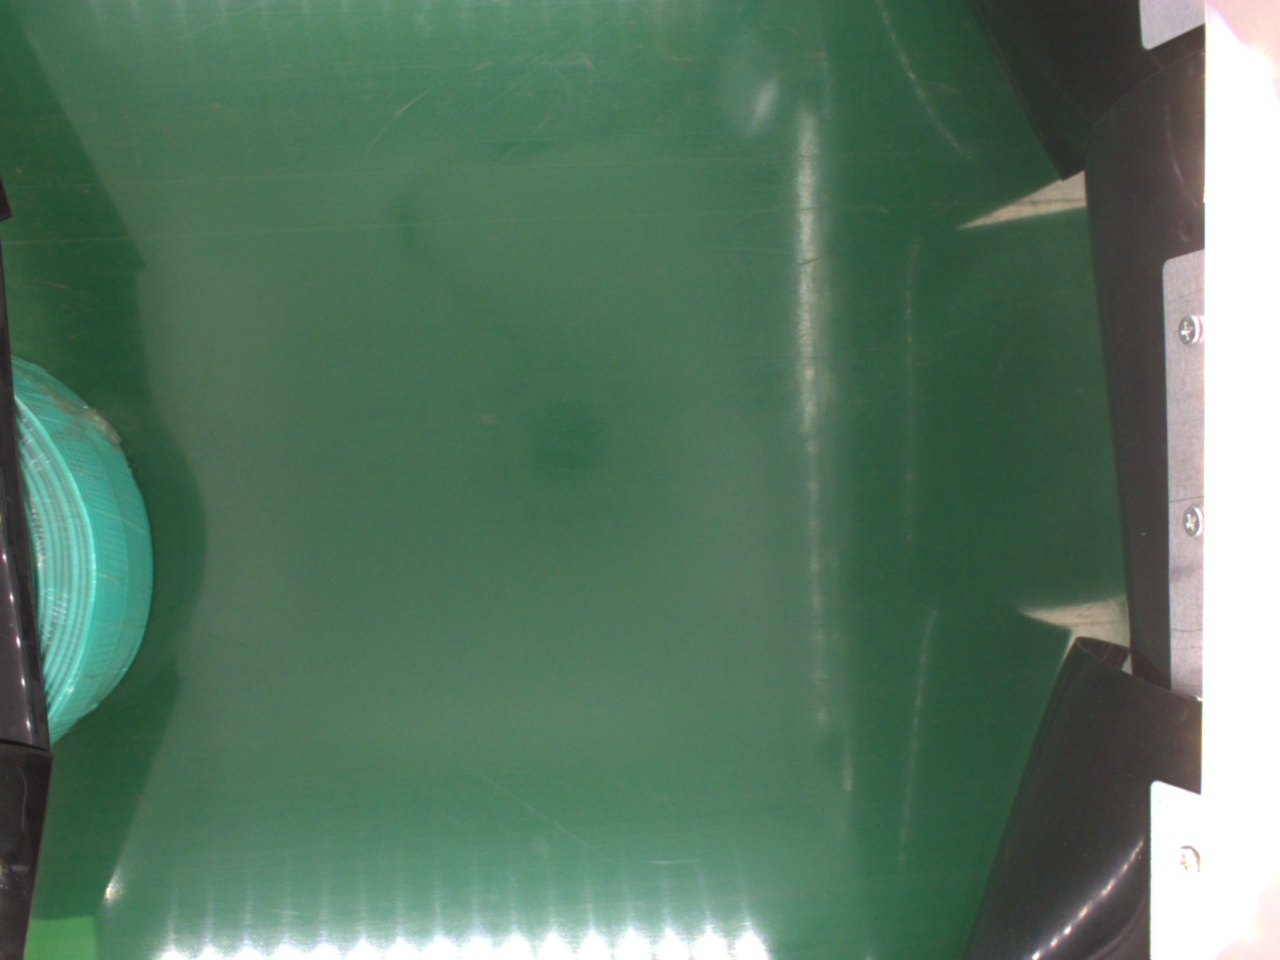green: (15, 358, 153, 741)
